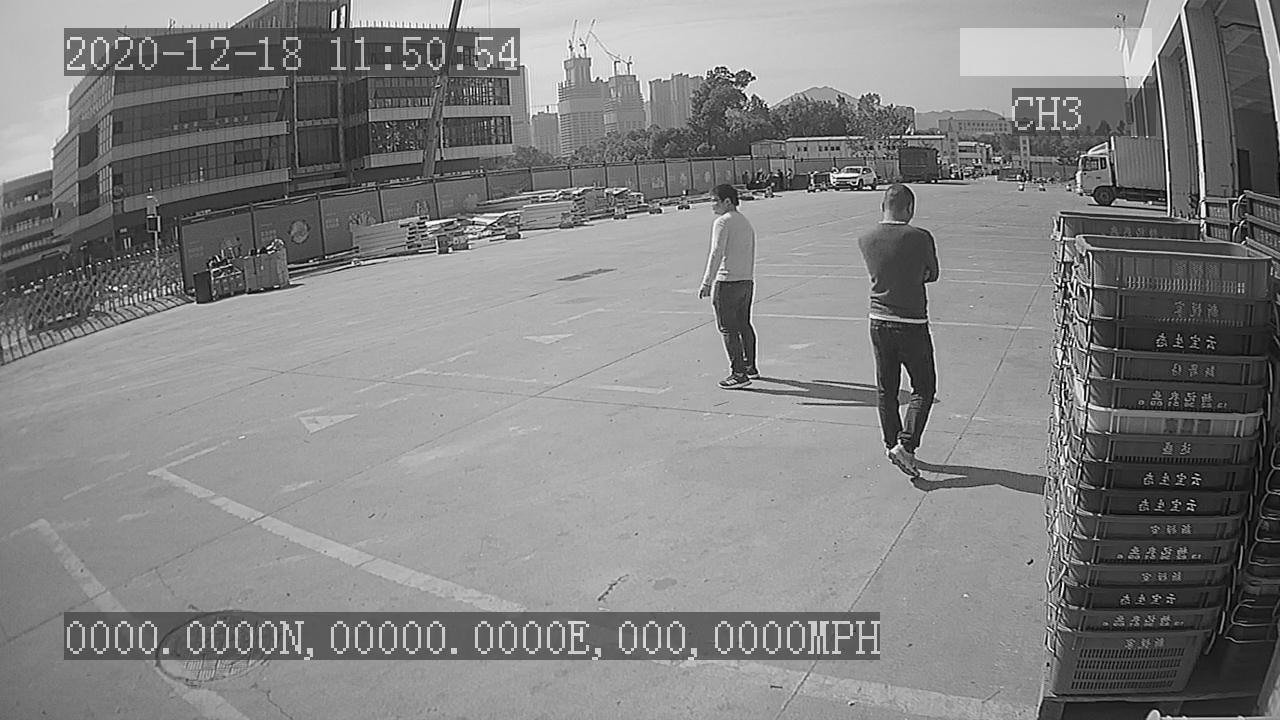person: (854, 174, 947, 486), (693, 181, 765, 392)
